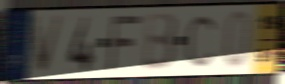0: (219, 9, 255, 72)
4: (66, 15, 95, 74)
B: (142, 11, 180, 72)
C: (183, 13, 220, 70)
F: (106, 13, 143, 73)
V: (29, 13, 67, 77)
